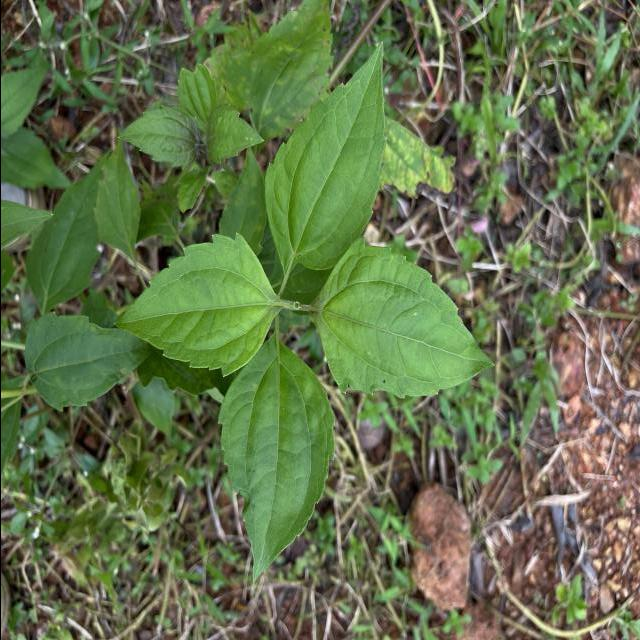Chromolaena odorata: (309, 232, 498, 403), (214, 332, 338, 586), (262, 37, 389, 279), (112, 228, 284, 379)
